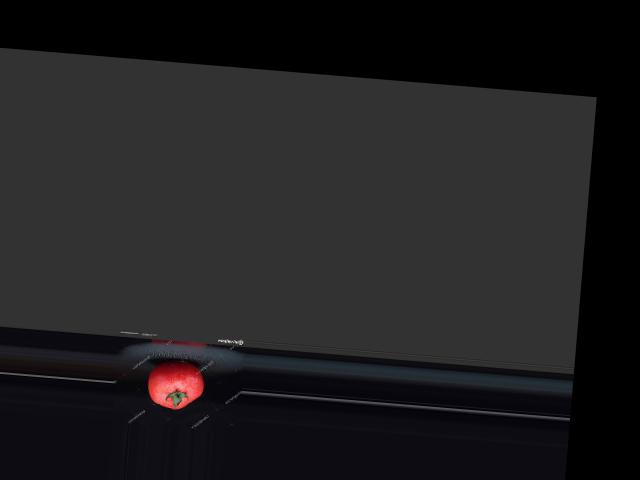tomato: (145, 358, 205, 411)
